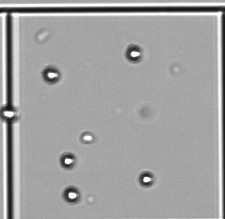Living Cell: (41, 66, 60, 83), (62, 187, 80, 204), (126, 44, 142, 62), (60, 153, 75, 170), (1, 107, 19, 121), (139, 171, 153, 186), (80, 133, 94, 144)
